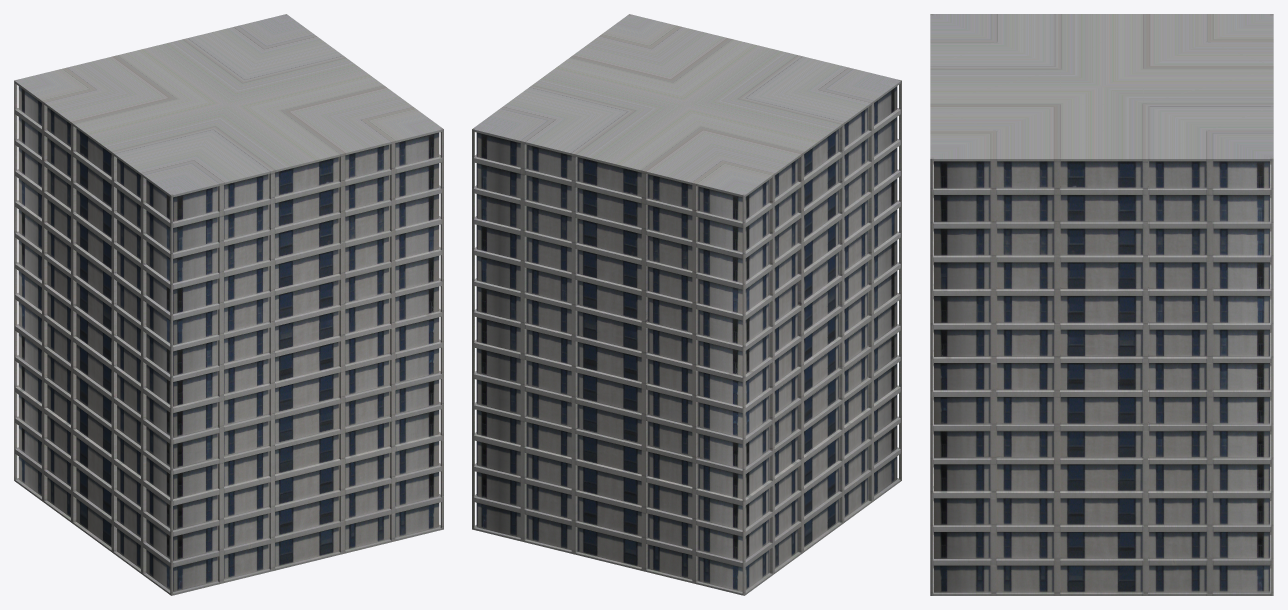
File: skyscraper4.obj
3 renders of one model, left to right at view 1: azimuth 30°, elevation 25°; view 2: azimuth 150°, elevation 25°; view 3: azimuth 270°, elevation 25°, orthographic. The views are drawn at different scales.
Visible parts, largest first — view 1: Plane01; view 2: Plane01; view 3: Plane01.
Part boxes in pixels (x1=…): Plane01: x1=14, y1=14, x2=443, y2=595; Plane01: x1=472, y1=14, x2=901, y2=595; Plane01: x1=930, y1=14, x2=1273, y2=595.
Bounding box in the file's own units: 1629 × 2287 × 1629.
1 material, 1 textured.
